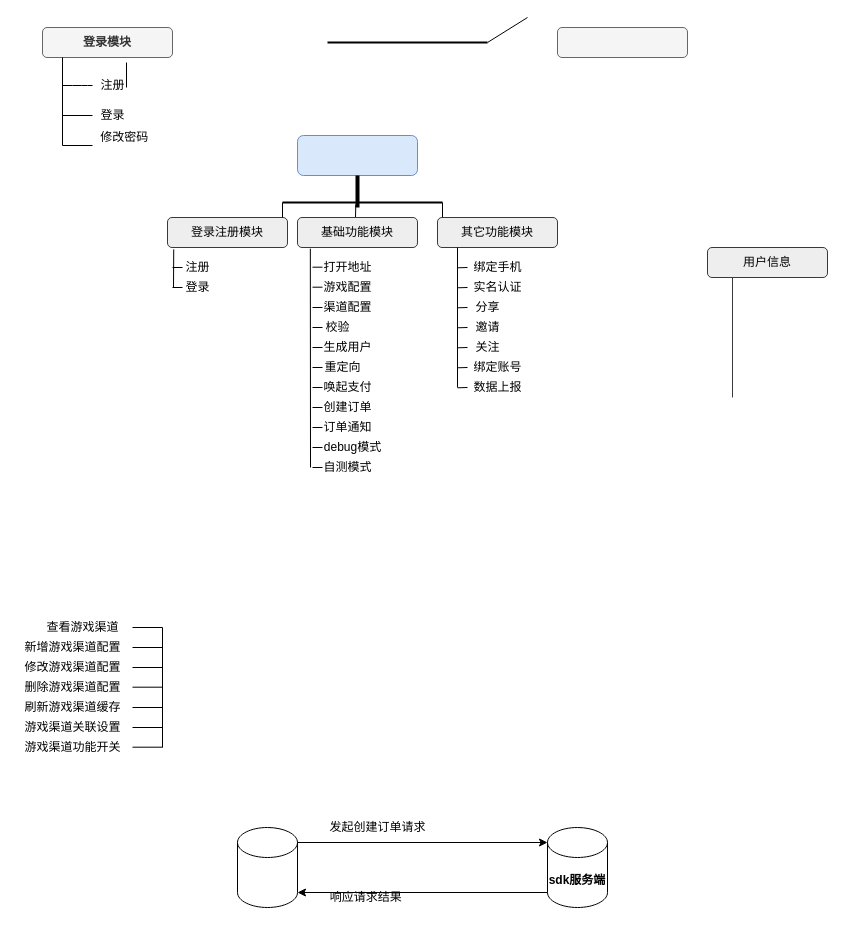
Some shapes in this 845 by 925 pixel diagram are drawn without their labels. The centre of each missing label's shape, as x and y in pixels:
sdk客户端: the point at 267,867
功能模块: the point at 622,42
摩多SDK系统: the point at 357,155
